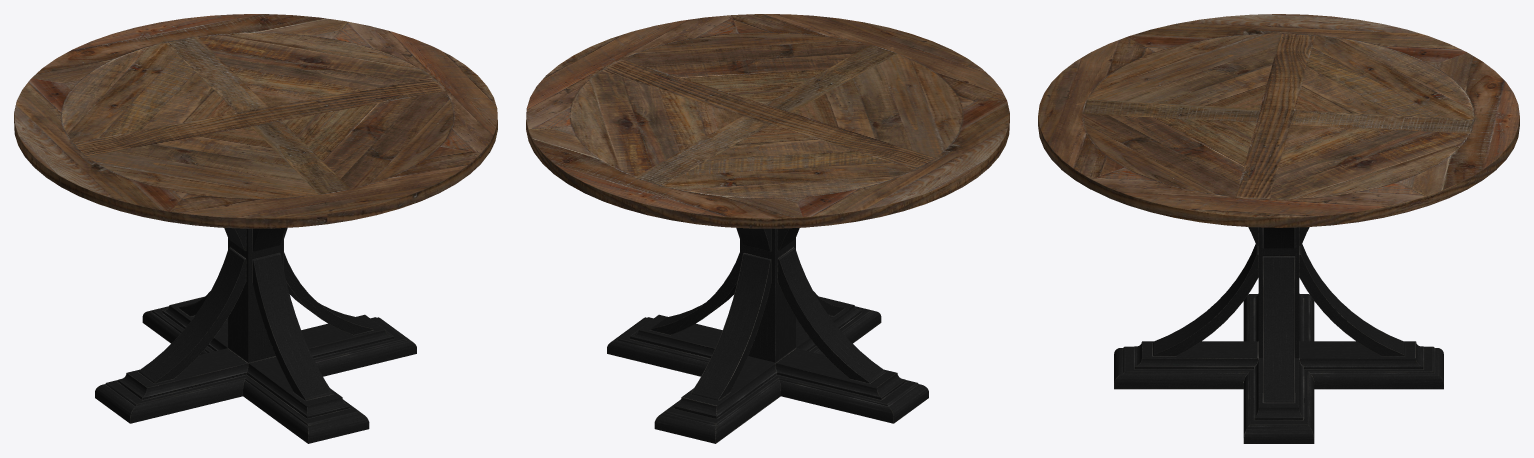
Rendered from tea_table.glb.
3 renders of one model, left to right at view 1: azimuth 30°, elevation 25°; view 2: azimuth 150°, elevation 25°; view 3: azimuth 270°, elevation 25°, orthographic.
Parts seen in each view (by area): view 1: Object_4, Object_3; view 2: Object_4, Object_3; view 3: Object_4, Object_3.
Part boxes in pixels (<box>): Object_4: <box>14,14,497,228</box>; Object_3: <box>95,227,416,443</box>; Object_4: <box>526,14,1009,228</box>; Object_3: <box>607,227,928,443</box>; Object_4: <box>1038,14,1519,227</box>; Object_3: <box>1114,227,1443,443</box>.
Bounding box in the file's own units: 27.27 × 16.15 × 27.27.
Materials: 2 (2 with a texture image).
